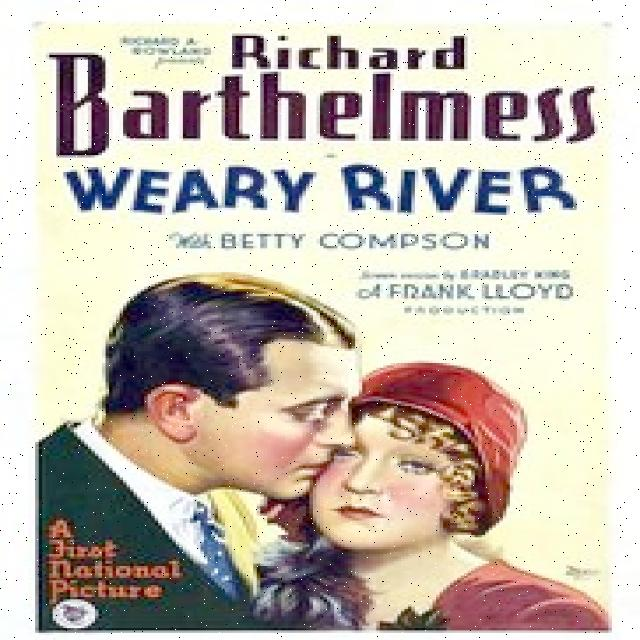movie-judul: (38, 51, 611, 226)
picture: (32, 256, 591, 634)
